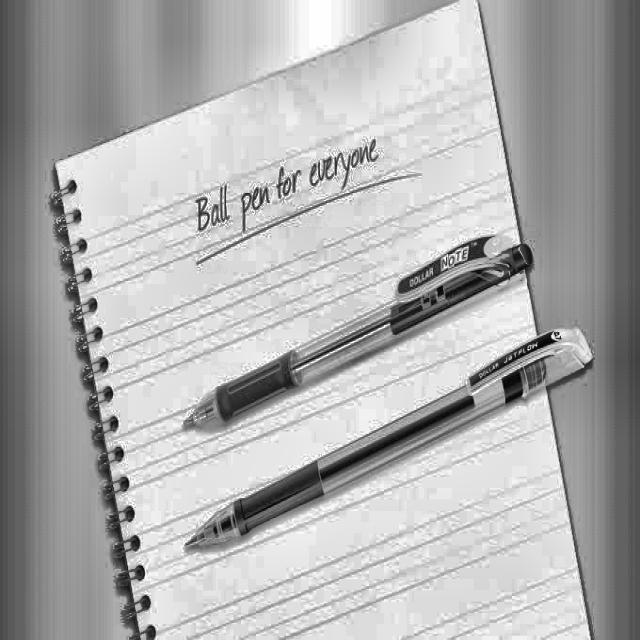Pen: (184, 329, 594, 555), (187, 237, 529, 429)
